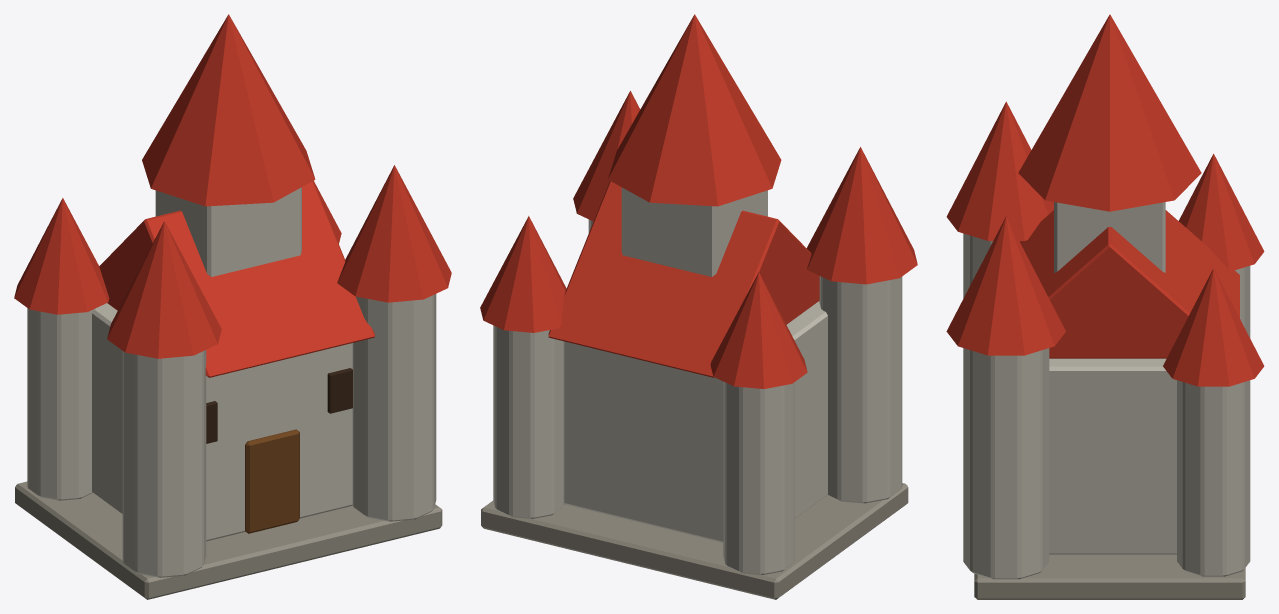
Rendered from sns_town_hall.glb.
3 renders of one model, left to right at view 1: azimuth 30°, elevation 25°; view 2: azimuth 150°, elevation 25°; view 3: azimuth 270°, elevation 25°, orthographic. The views are drawn at different scales.
Visible parts, largest first — view 1: sns_town_hall; view 2: sns_town_hall; view 3: sns_town_hall.
Boxes of the visible parts, box(x1,y1,x2,y2) form: sns_town_hall: box(14, 14, 451, 599); sns_town_hall: box(480, 14, 917, 599); sns_town_hall: box(946, 14, 1264, 599).
Size of the model in its own units: 4.83 by 7.1 by 3.99.
